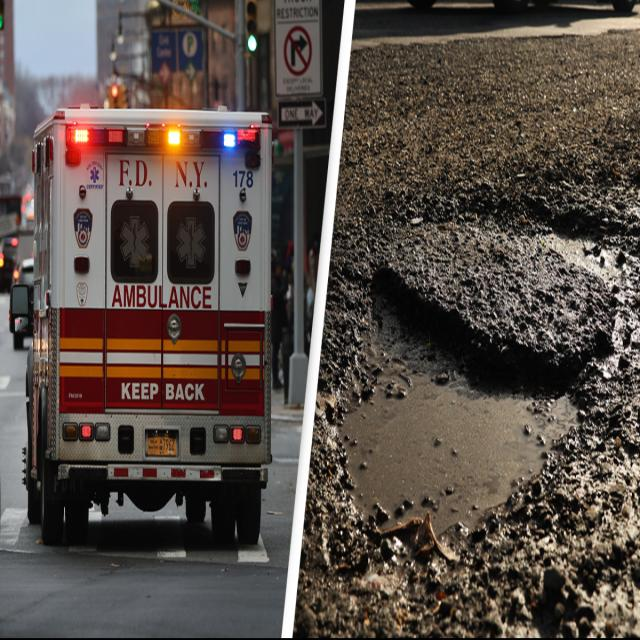emergency: (10, 107, 271, 544)
